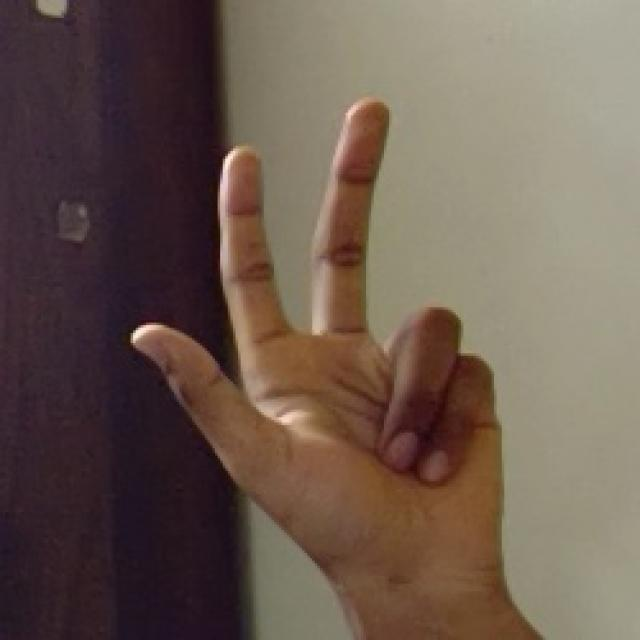Numeric-3: (128, 95, 508, 589)
